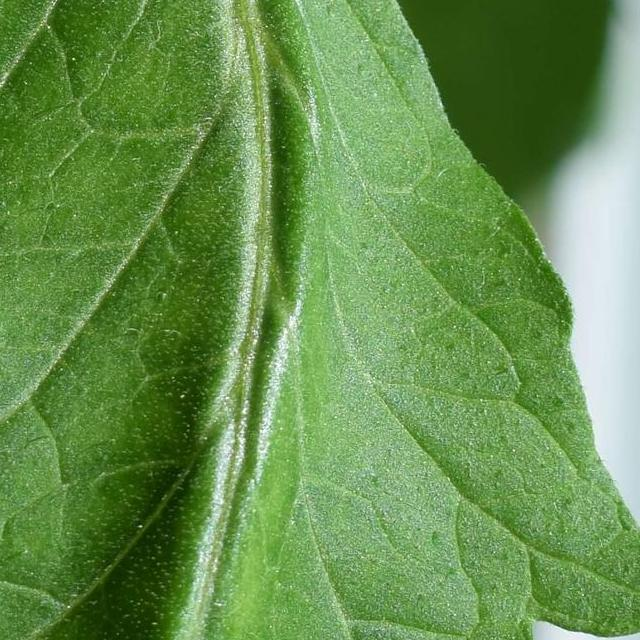Tomato leaf: (0, 0, 578, 640)
